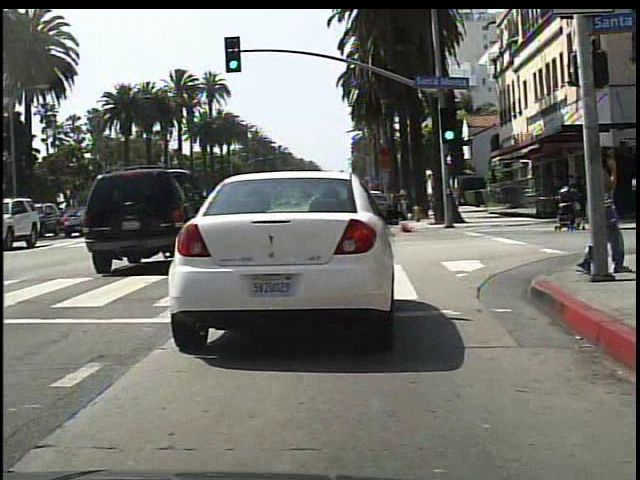person: (574, 141, 623, 277)
